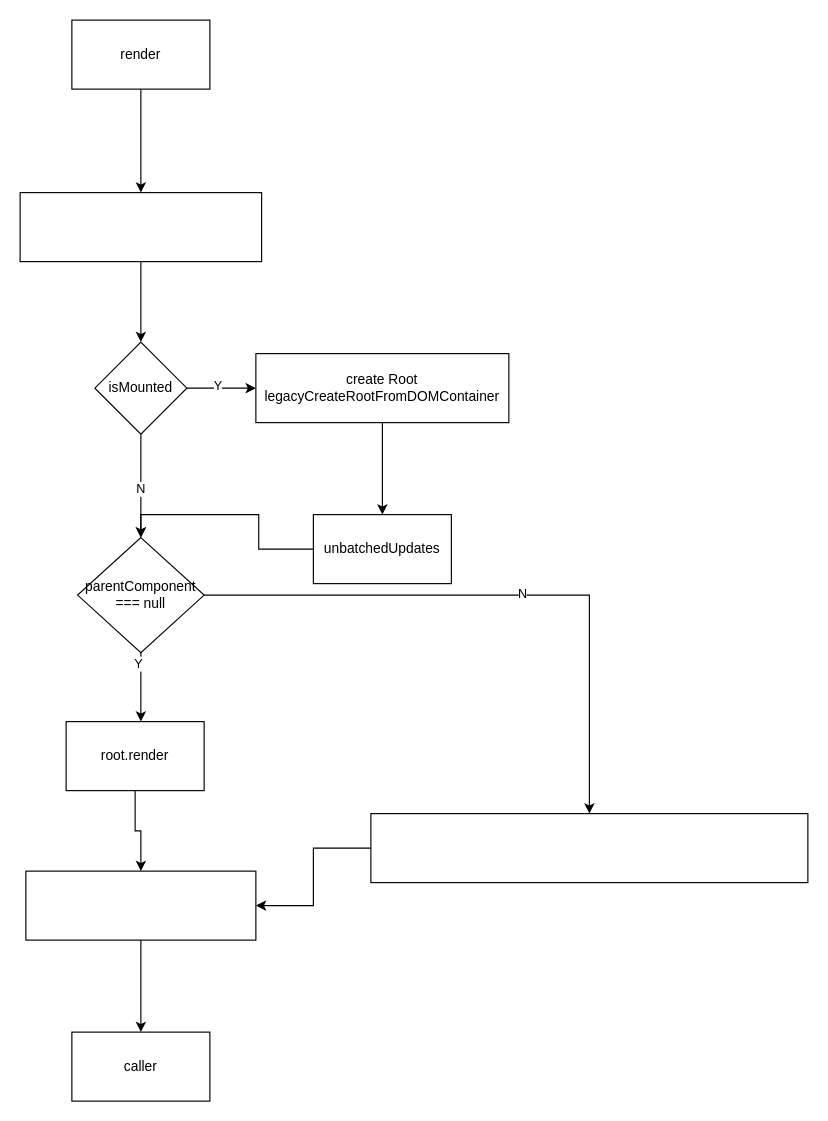
The diagram is 828 pixels wide and 1121 high, and some of its shapes have lost their labels. Here are the shapes that lost their labels. From the top down, the centre of each, then its label:
At [140,226]: "legacyRenderSubtreeIntoContainer".
At [589,847]: "root . legacy_renderSubtreeIntoContainer".
At [140,905]: "getPublicRootInstance".
